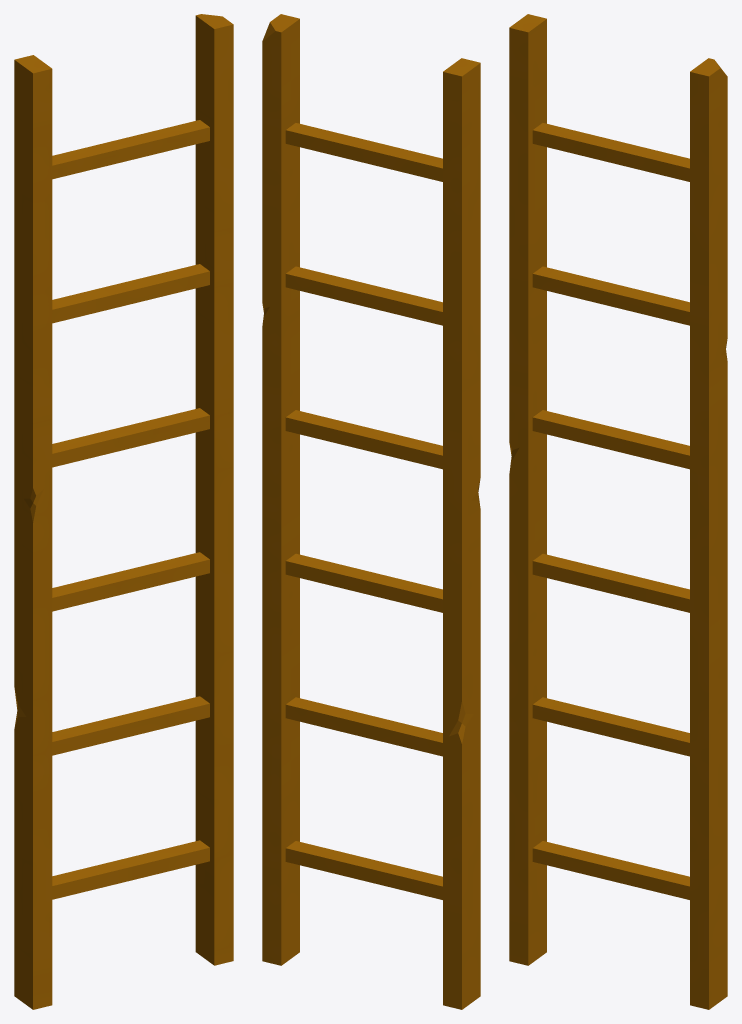
Rendered from Ladder.fbx.
3 renders of one model, left to right at view 1: azimuth 30°, elevation 25°; view 2: azimuth 150°, elevation 25°; view 3: azimuth 330°, elevation 25°, orthographic.
Visible parts, largest first — view 1: Ladder; view 2: Ladder; view 3: Ladder.
Part boxes in pixels (x1,y1,x2,y2): Ladder: (14, 14, 233, 1009); Ladder: (262, 14, 480, 1009); Ladder: (509, 14, 727, 1009).
Size of the model in its own units: 50.47 by 225 by 8.21.
